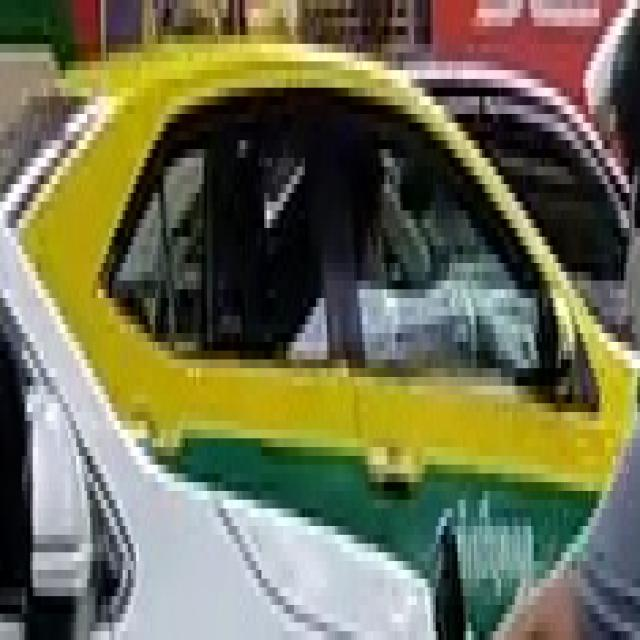door: (0, 35, 637, 631)
